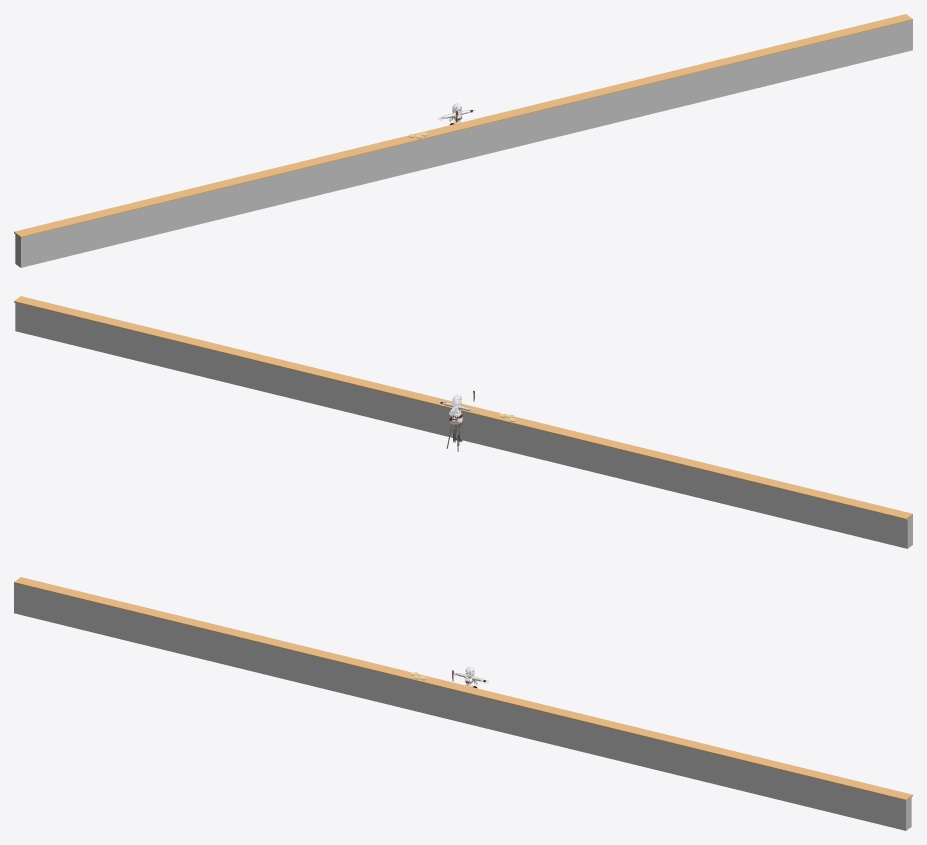
Rendered from eber.glb.
3 views of the same model, one above another, from view 1: azimuth 30°, elevation 25°; view 2: azimuth 150°, elevation 25°; view 3: azimuth 330°, elevation 25° (orthographic).
Parts seen in each view (by area): view 1: Cube; view 2: Cube; view 3: Cube.
Boxes of the visible parts, x1,y1,x2,y2 form: Cube: (14,14,912,267); Cube: (14,296,912,548); Cube: (14,577,912,830).
Size of what is drawn, in the model's own units: 52.86 by 2.99 by 1.49.
9 materials, 2 textured.
